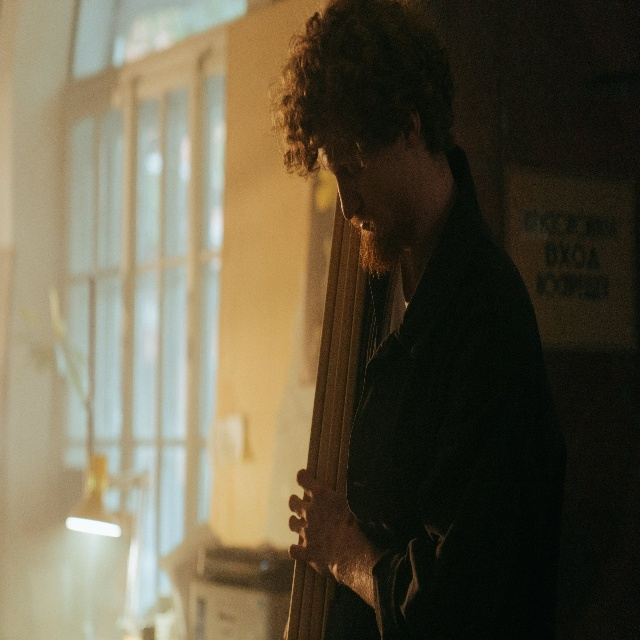Sin_guantes: (287, 463, 359, 591)
